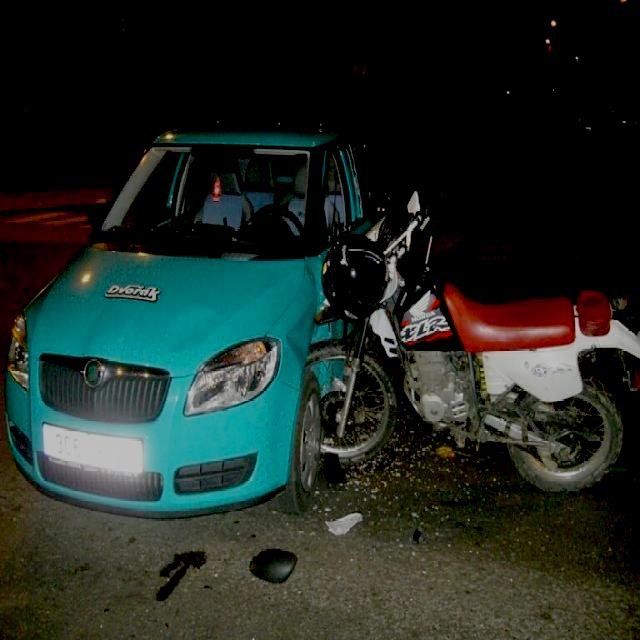accident: (6, 119, 640, 606)
